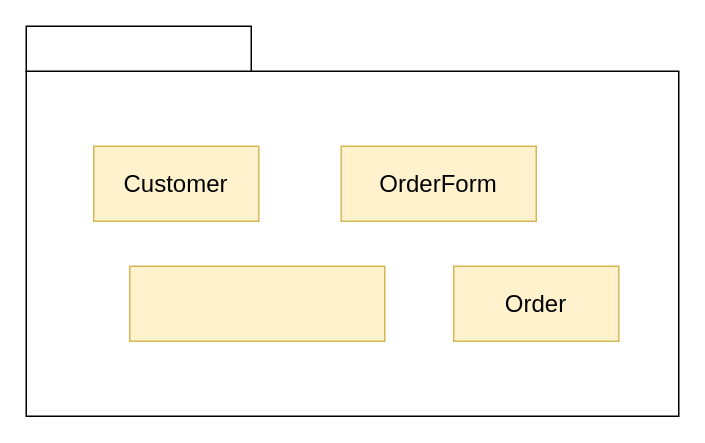
This 705x443 diagram has some shape labels left out. The box of each missing label's shape, as (x1, y1, x2, y2) in pixels:
myapp.orders: (25, 25, 251, 71)
OrderPlacement: (128, 265, 385, 341)
